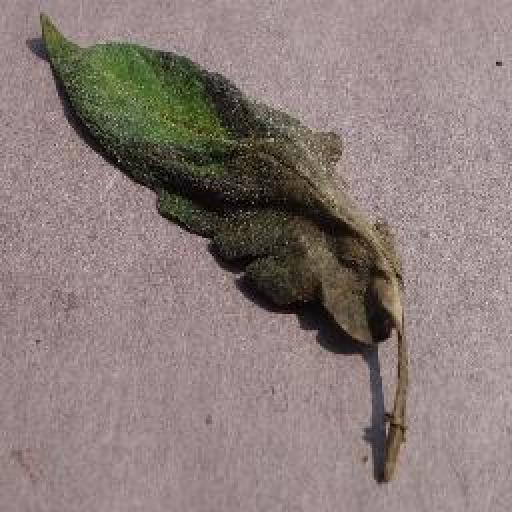Late Blight: (42, 12, 410, 344)
